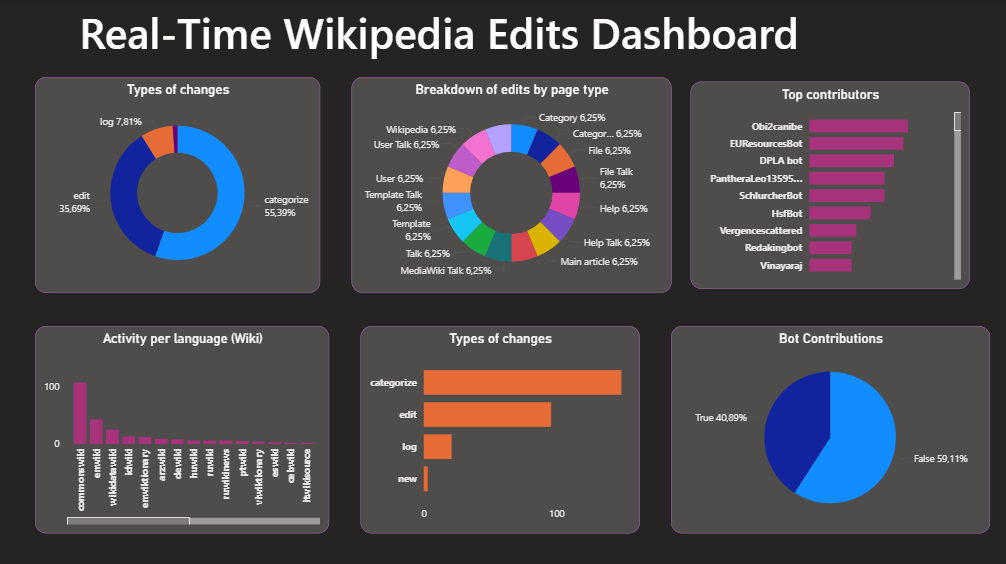

The dashboard page shown, as its layout file describes it:
{"tool":"powerbi","page":{"name":"Page 1","canvas":[1280,720],"ordinal":0},"visuals":[{"type":"donutChart","title":"Types of changes","fields":{"Category":["wiki_changes.type_change"],"Y":["CountNonNull(wiki_changes.type_change)"]},"box":[50,98.5,359.5,272],"z":0},{"type":"donutChart","title":"Breakdown of edits by page type","fields":{"Category":["NamespaceMapping.namespace_name"],"Y":["CountNonNull(NamespaceMapping.namespace_name)"]},"box":[447,98.5,403.3,272],"z":1000},{"type":"clusteredBarChart","title":"Types of changes","fields":{"Category":["wiki_changes.type_change"],"Y":["CountNonNull(wiki_changes.type_change)"]},"box":[459.5,412.6,351.7,261],"z":2000},{"type":"clusteredColumnChart","title":"Activity per language (Wiki)","fields":{"Category":["wiki_changes.wiki"],"Y":["CountNonNull(wiki_changes.wiki)"]},"box":[50,412.6,370.4,261],"z":3000},{"type":"pieChart","title":"Bot Contributions ","fields":{"Category":["wiki_changes.bot"],"Y":["CountNonNull(wiki_changes.bot)"]},"box":[850.3,412.6,401.7,261],"z":4000},{"type":"clusteredBarChart","title":"Top contributors","fields":{"Category":["wiki_changes.username"],"Y":["CountNonNull(wiki_changes.ts)"]},"box":[875.3,103.2,351.7,261],"z":5000},{"type":"textbox","box":[100,0,940.9,98.5],"z":6000}]}

Visuals, with their boxes in screenshot pixels (x1, y1, x2, y2), scaled from the page's 1280x720 canvas onto the 1006x564 screenshot:
"Types of changes" donutChart: <box>39,77,322,290</box>
"Breakdown of edits by page type" donutChart: <box>351,77,668,290</box>
"Types of changes" clusteredBarChart: <box>361,323,638,528</box>
"Activity per language (Wiki)" clusteredColumnChart: <box>39,323,330,528</box>
"Bot Contributions " pieChart: <box>668,323,984,528</box>
"Top contributors" clusteredBarChart: <box>688,81,964,285</box>
textbox: <box>79,0,818,77</box>
